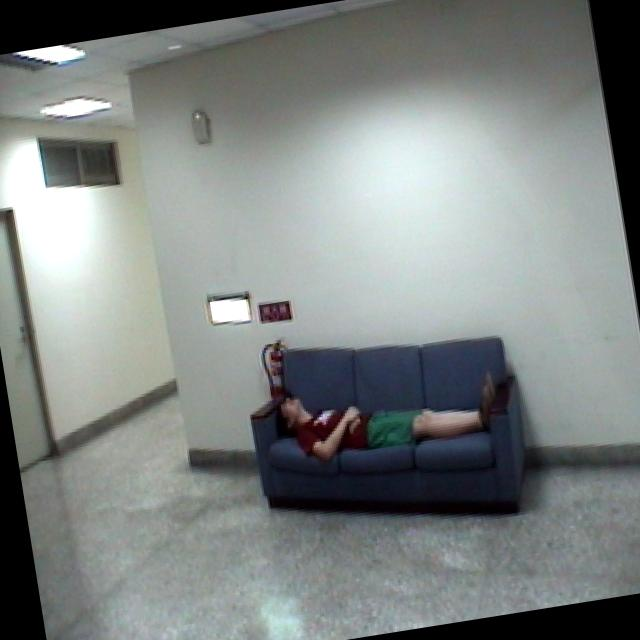lie: (267, 344, 510, 470)
